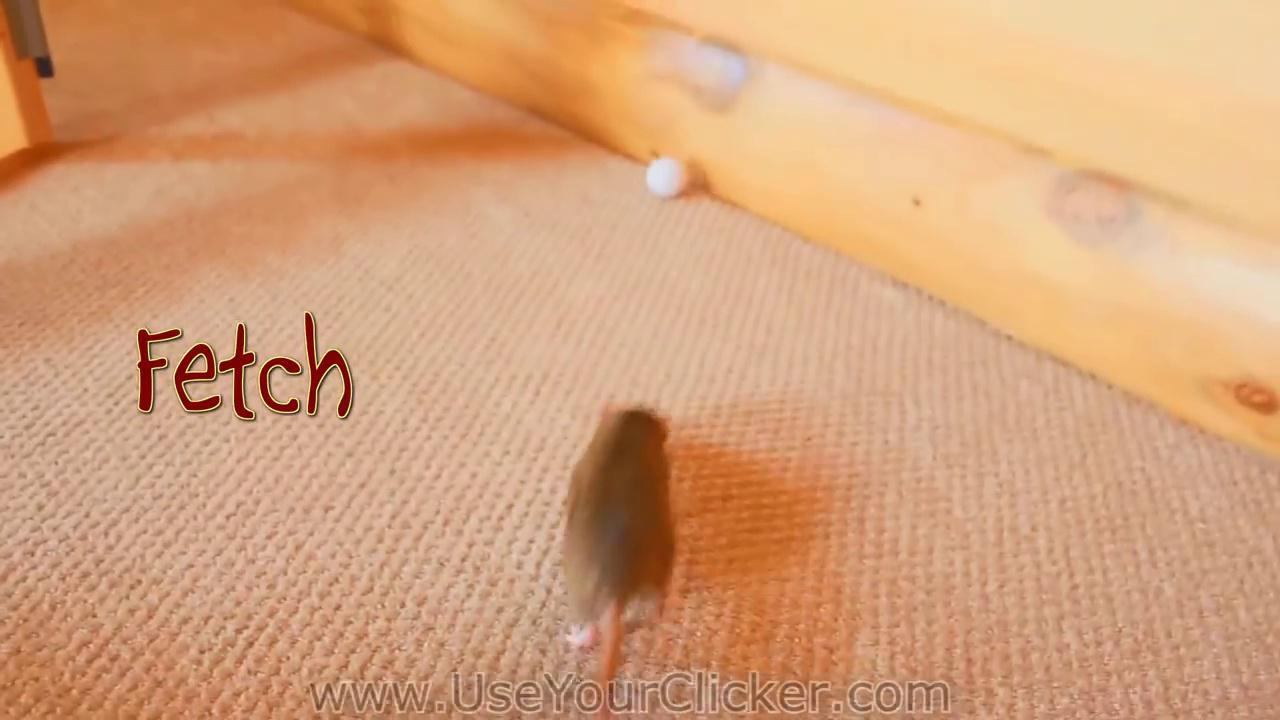rat: (562, 407, 676, 720)
